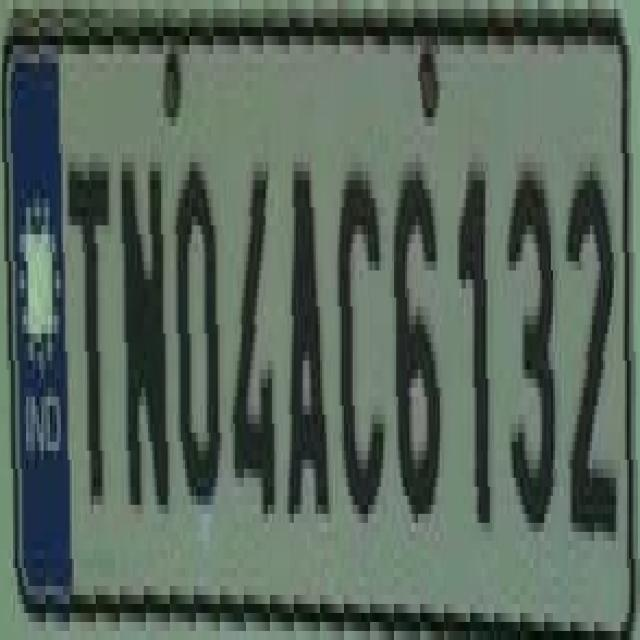license_plate: (0, 18, 610, 640)
